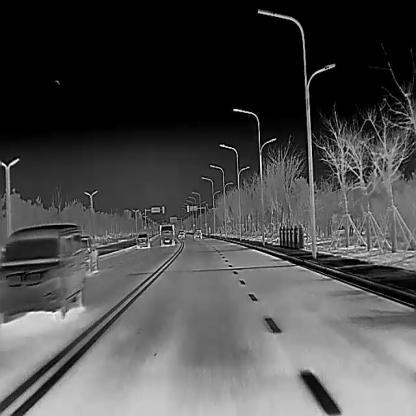car: (0, 222, 84, 321), (80, 234, 99, 271), (159, 224, 174, 246), (136, 232, 149, 247), (193, 228, 202, 238), (177, 229, 184, 238)
